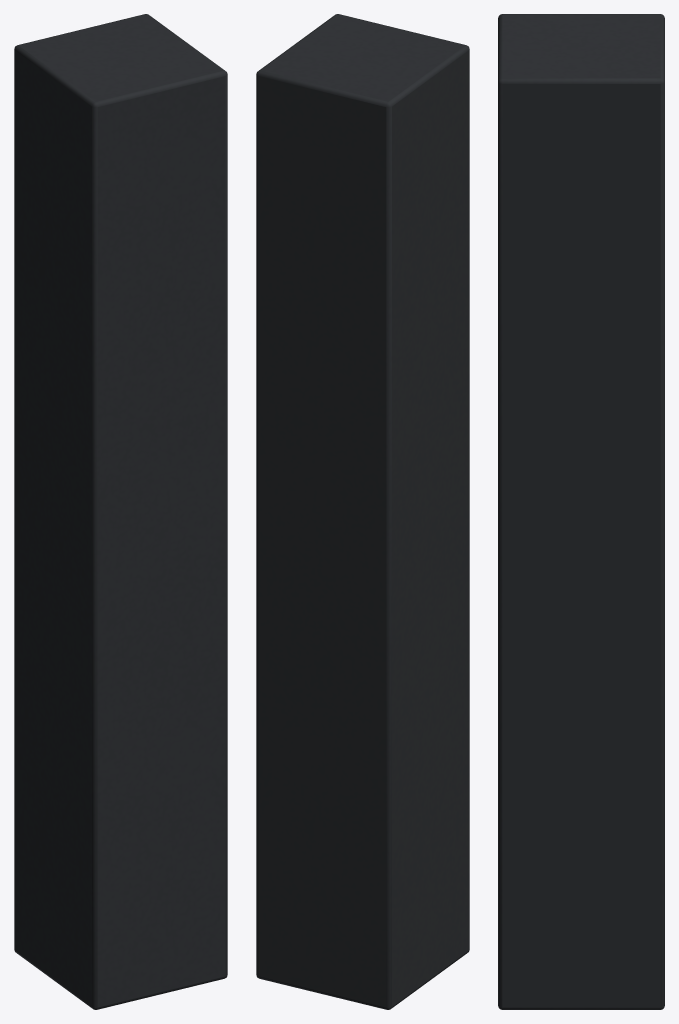
Rendered from camera_mount.obj.
3 views of the same model, side by side, from view 1: azimuth 30°, elevation 25°; view 2: azimuth 150°, elevation 25°; view 3: azimuth 270°, elevation 25° (orthographic). The views are drawn at different scales.
Parts seen in each view (by area): view 1: camera_mount__kinect_optical_carrier_provisional; view 2: camera_mount__kinect_optical_carrier_provisional; view 3: camera_mount__kinect_optical_carrier_provisional.
Part boxes in pixels (box(x1,y1,x2,y2)): camera_mount__kinect_optical_carrier_provisional: box(14, 14, 227, 1009); camera_mount__kinect_optical_carrier_provisional: box(256, 14, 469, 1009); camera_mount__kinect_optical_carrier_provisional: box(498, 14, 664, 1009).
Bounding box in the file's own units: 0.024 × 0.154 × 0.025.
Materials: 1 (1 with a texture image).
